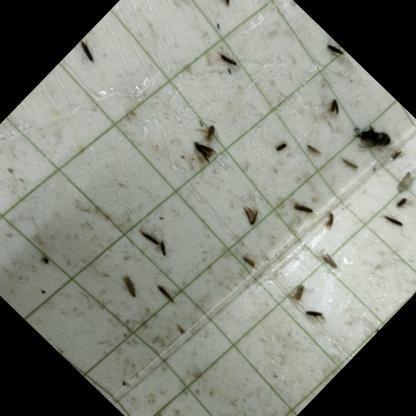prays_oleae: (60, 28, 112, 80), (177, 126, 229, 178), (208, 40, 250, 82), (146, 230, 186, 272), (189, 0, 248, 26), (230, 197, 268, 236), (294, 136, 331, 174), (114, 268, 150, 303), (287, 192, 322, 227), (148, 278, 183, 313), (282, 276, 315, 310), (310, 247, 342, 279), (376, 205, 408, 236), (267, 131, 297, 162), (196, 117, 226, 147), (316, 92, 346, 122), (314, 208, 344, 238), (320, 38, 349, 67), (234, 249, 262, 276), (335, 152, 361, 178), (300, 302, 324, 326)
